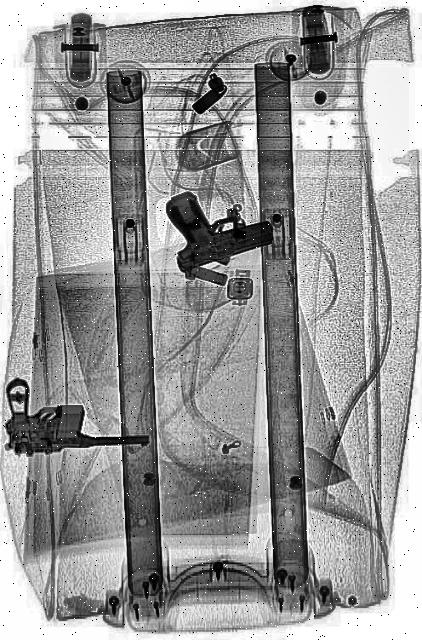Gun: (1, 374, 149, 460), (162, 168, 276, 278)
